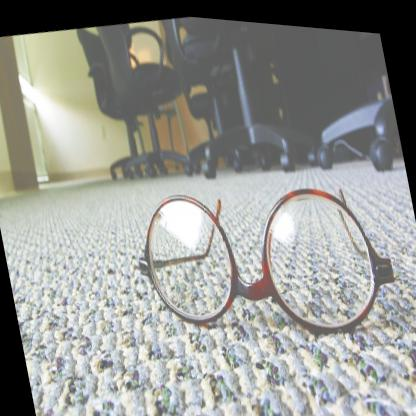Spectacles: (125, 151, 407, 372)
